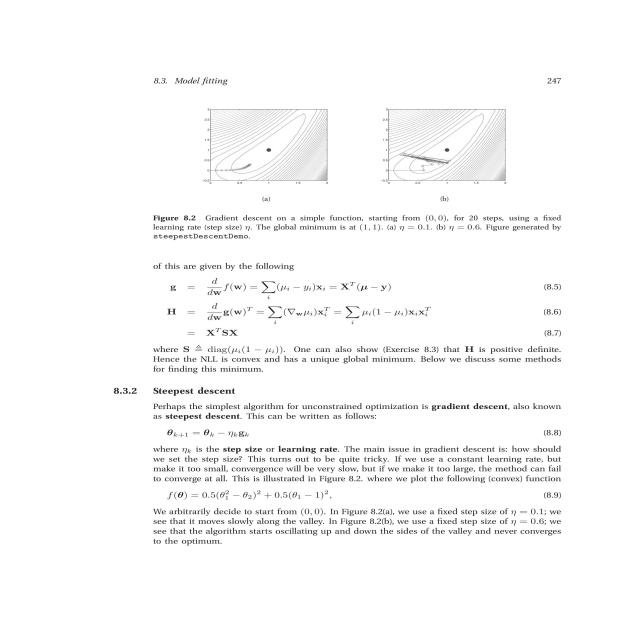diagram: (123, 71, 605, 248)
